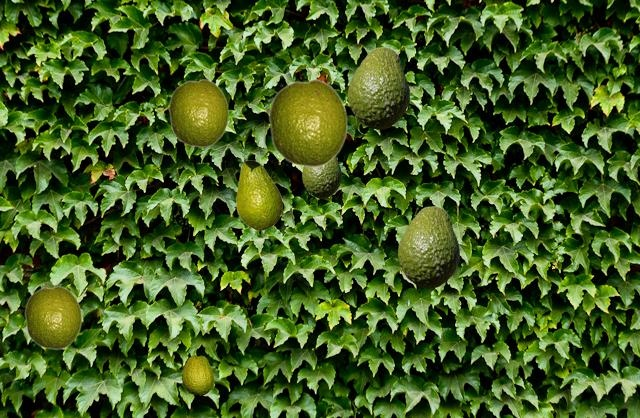avocado: (268, 78, 347, 167), (348, 47, 408, 128), (398, 206, 458, 287), (168, 78, 228, 147), (24, 285, 81, 349), (236, 160, 281, 229), (302, 156, 340, 197), (182, 355, 212, 394)
